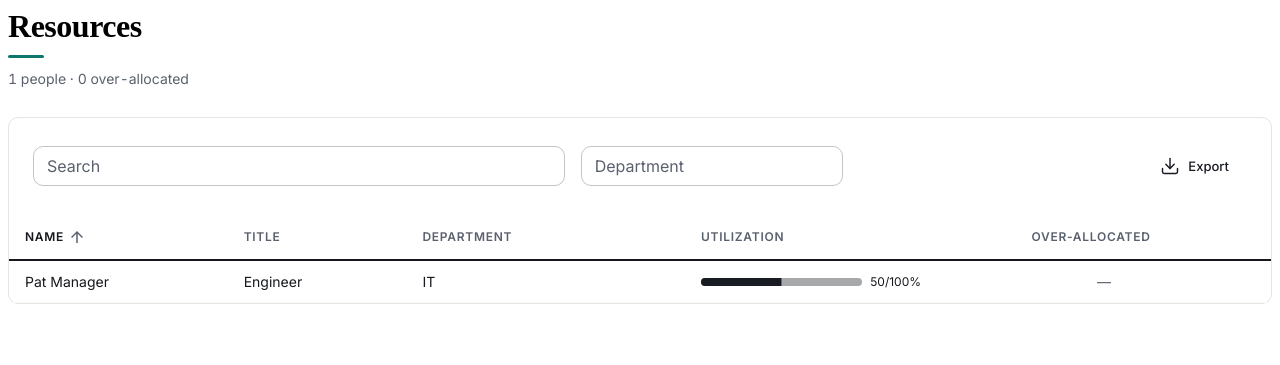
Test: Resources page › keeps the filter toolbar reachable when a filter matches nothing
Expected: the text "Pat Manager" is shown, [9, 260, 228, 303]
Type "zzz" into the field labelled "Search".
click(299, 166); type("zzz")  # box [33, 146, 565, 186]
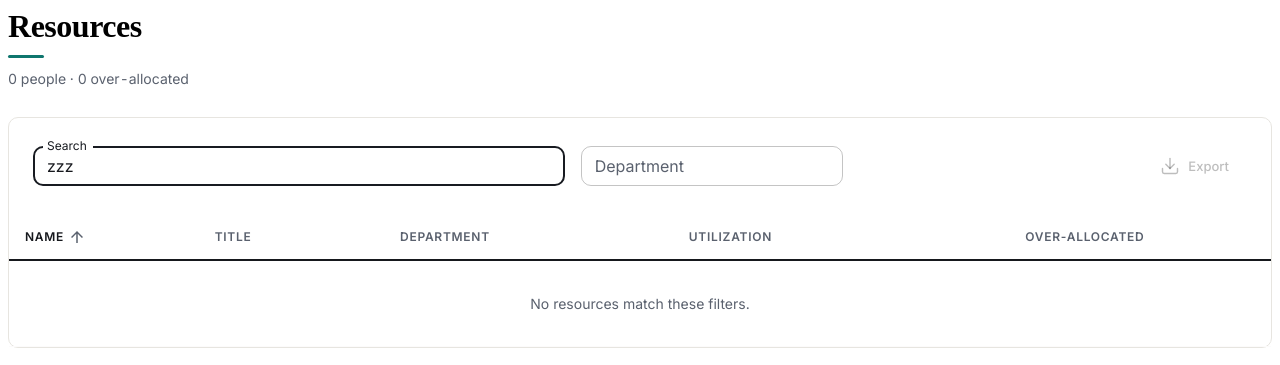
Result: the text "No resources match these filters." is shown at [9, 260, 1271, 347]
